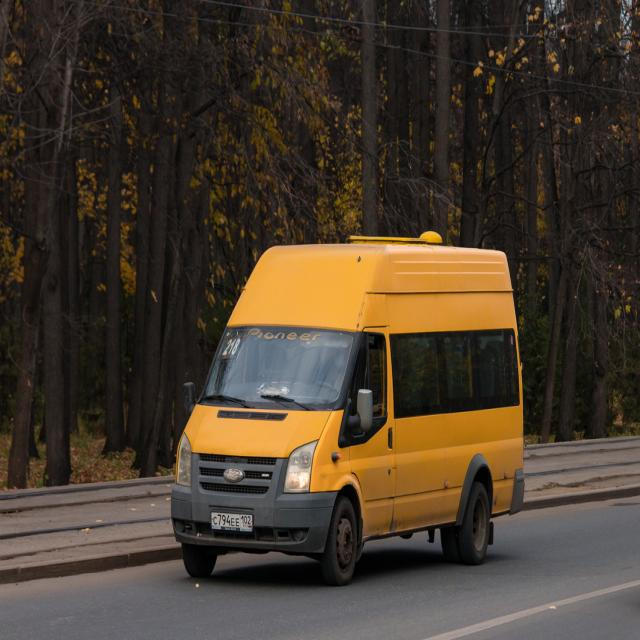number-of-bus: (222, 337, 243, 359)
